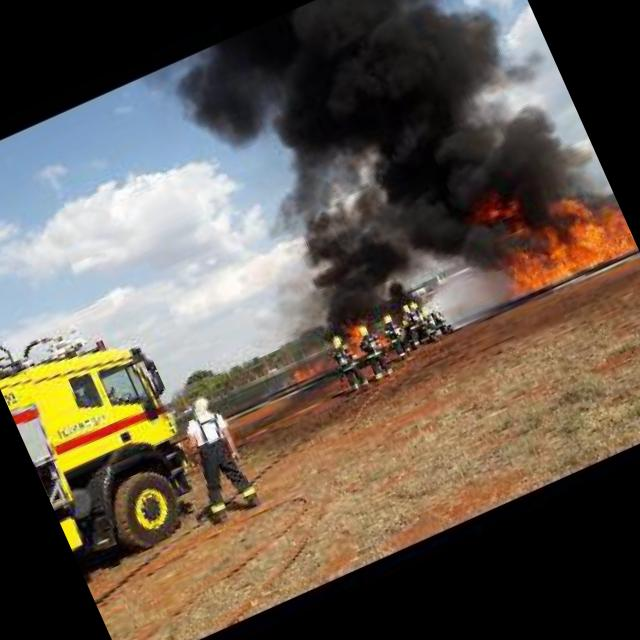fire: (488, 183, 638, 302), (469, 183, 526, 229), (340, 315, 374, 355), (288, 352, 330, 384)
smoke: (173, 0, 605, 328)
